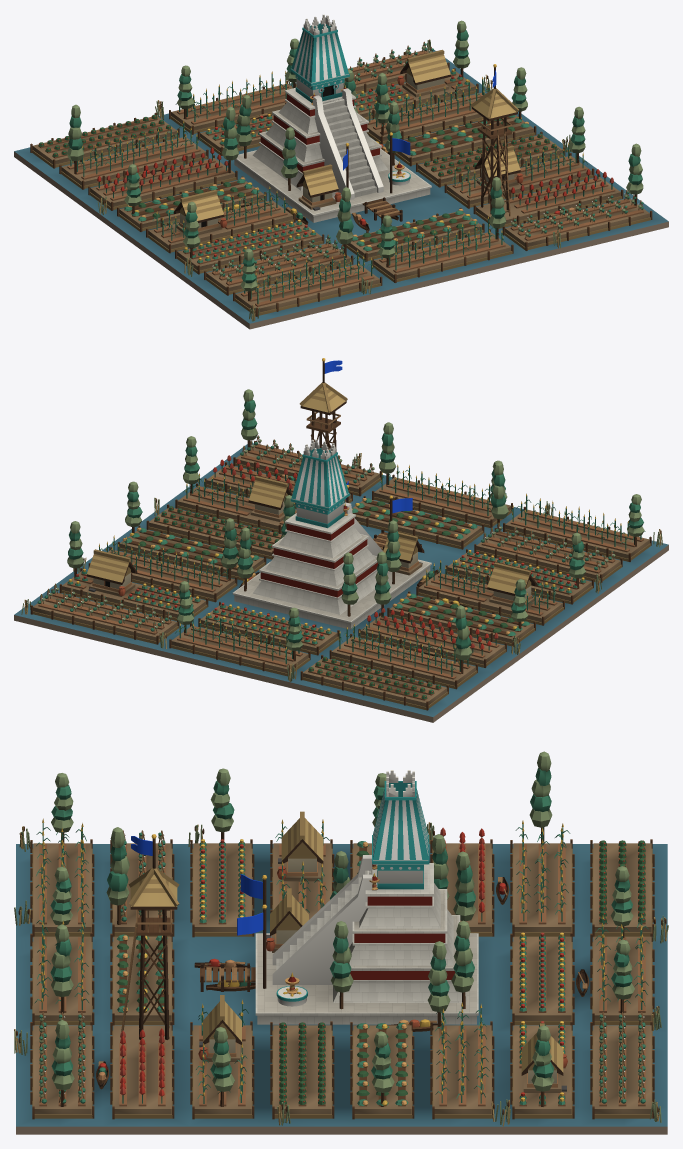
The model's file is lm_cinampa.glb.
3 renders of one model, top to bottom at view 1: azimuth 30°, elevation 25°; view 2: azimuth 150°, elevation 25°; view 3: azimuth 270°, elevation 25°, orthographic. The views are drawn at different scales.
Parts seen in each view (by area): view 1: lm_cinampa; view 2: lm_cinampa; view 3: lm_cinampa.
Boxes of the visible parts, <box> form: lm_cinampa: <box>14,14,668,329</box>; lm_cinampa: <box>14,358,668,722</box>; lm_cinampa: <box>14,751,668,1134</box>.
Size of the model in its own units: 2.31 by 0.8219 by 2.25.
1 material, 1 textured.
